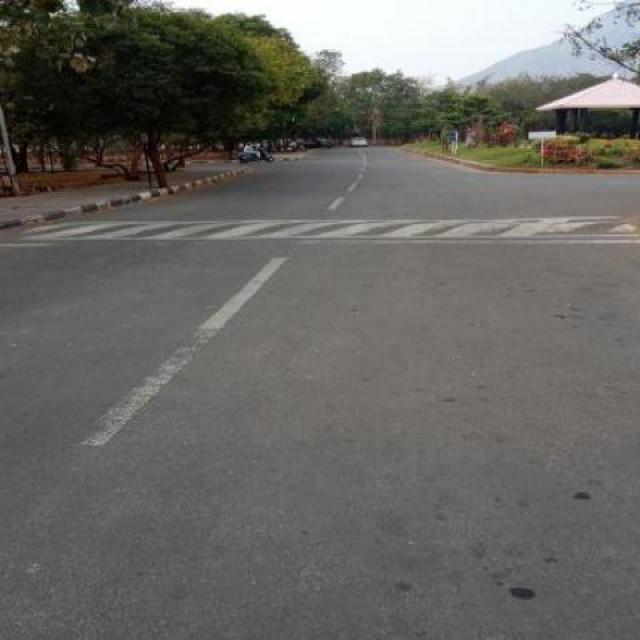Speed Bump: (20, 213, 639, 240)
